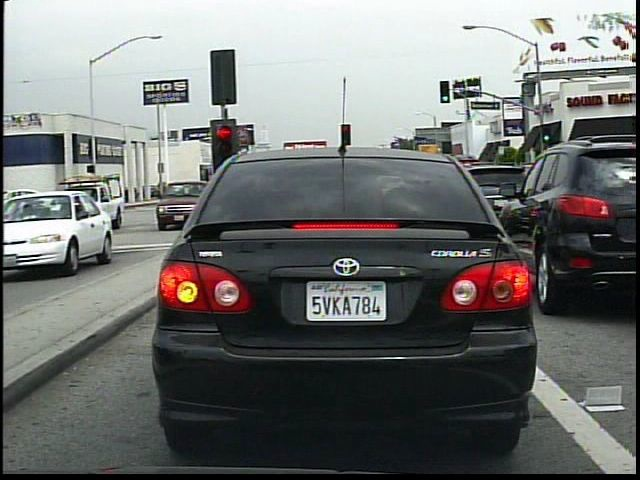person: (166, 171, 187, 199)
